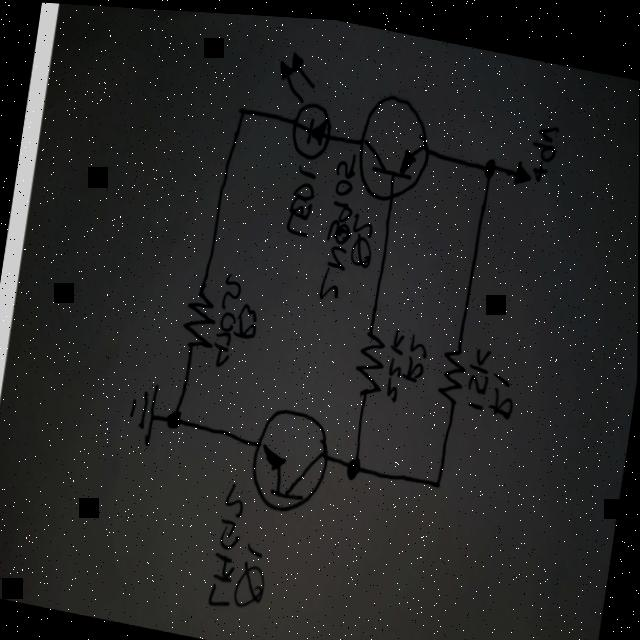diode: (265, 41, 346, 165)
ground: (120, 376, 168, 455)
junction: (345, 451, 363, 478), (167, 402, 185, 429), (481, 150, 498, 173), (235, 100, 250, 120), (430, 468, 445, 487)
resistor: (176, 282, 224, 358), (348, 323, 393, 402), (435, 335, 473, 404)
source: (504, 144, 540, 189)
text: (313, 142, 391, 306), (203, 473, 282, 620), (205, 262, 270, 373), (461, 336, 526, 418), (378, 318, 435, 404), (279, 157, 326, 239), (528, 109, 565, 179)
transistor: (241, 392, 339, 521), (348, 80, 444, 210)
